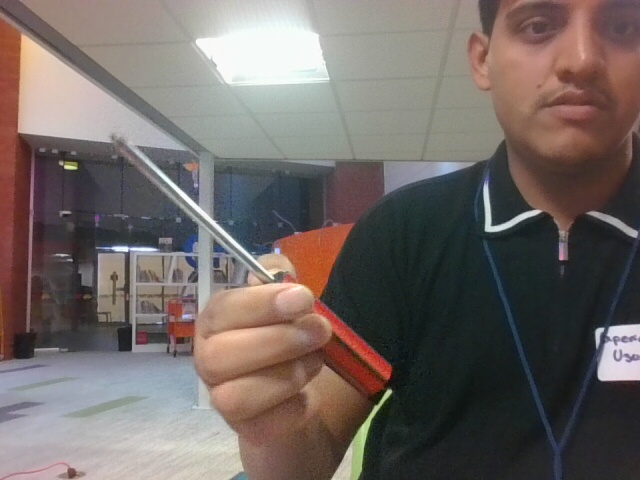destornillador: (111, 128, 388, 401)
